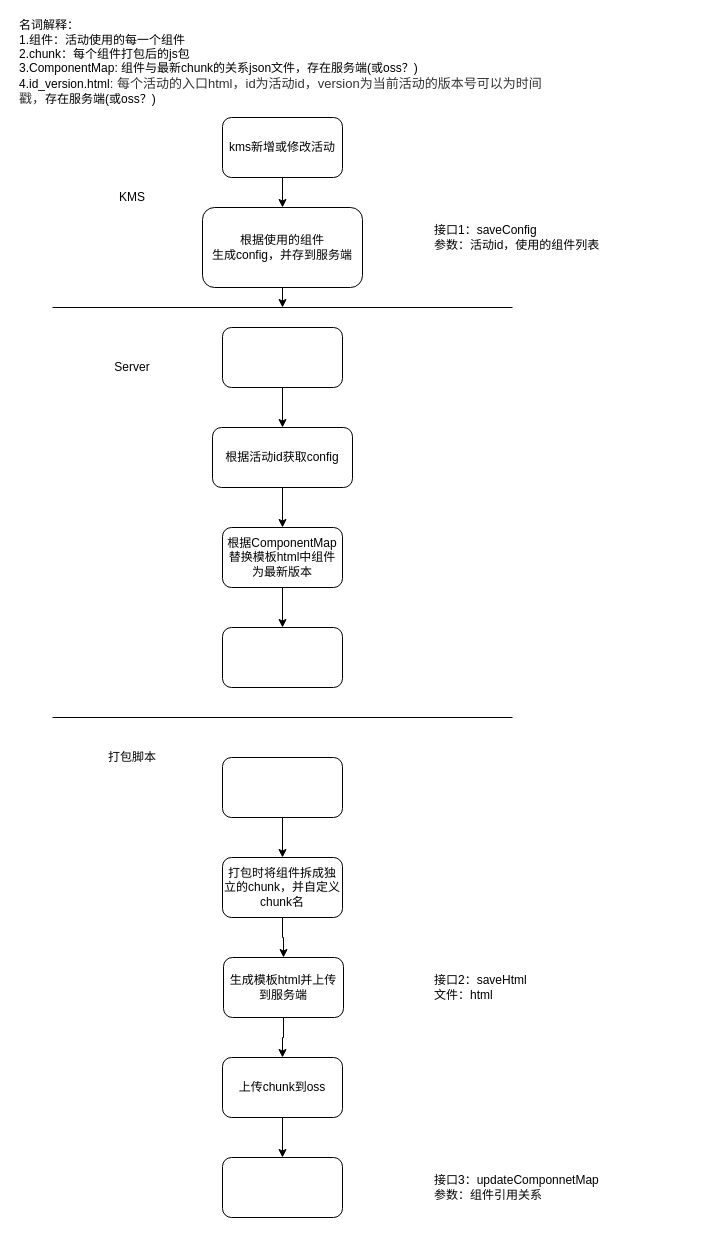
The diagram is 719 pixels wide and 1235 high, and some of its shapes have lost their labels. Here are the shapes that lost their labels. From the top down, the centre of each, then its label:
At (x=282, y=357): "用户访问活动".
At (x=282, y=657): "返回最终html给用户".
At (x=282, y=787): "更新组件".
At (x=282, y=1187): "上传ComponentMap到服务端".
